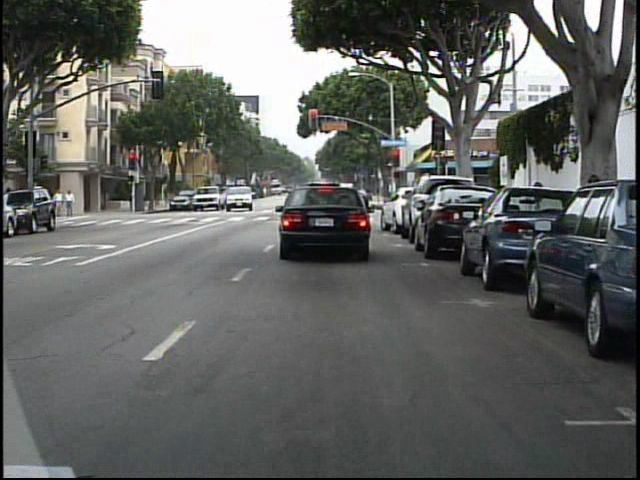person: (64, 188, 79, 218), (54, 187, 67, 218), (56, 186, 67, 222)
